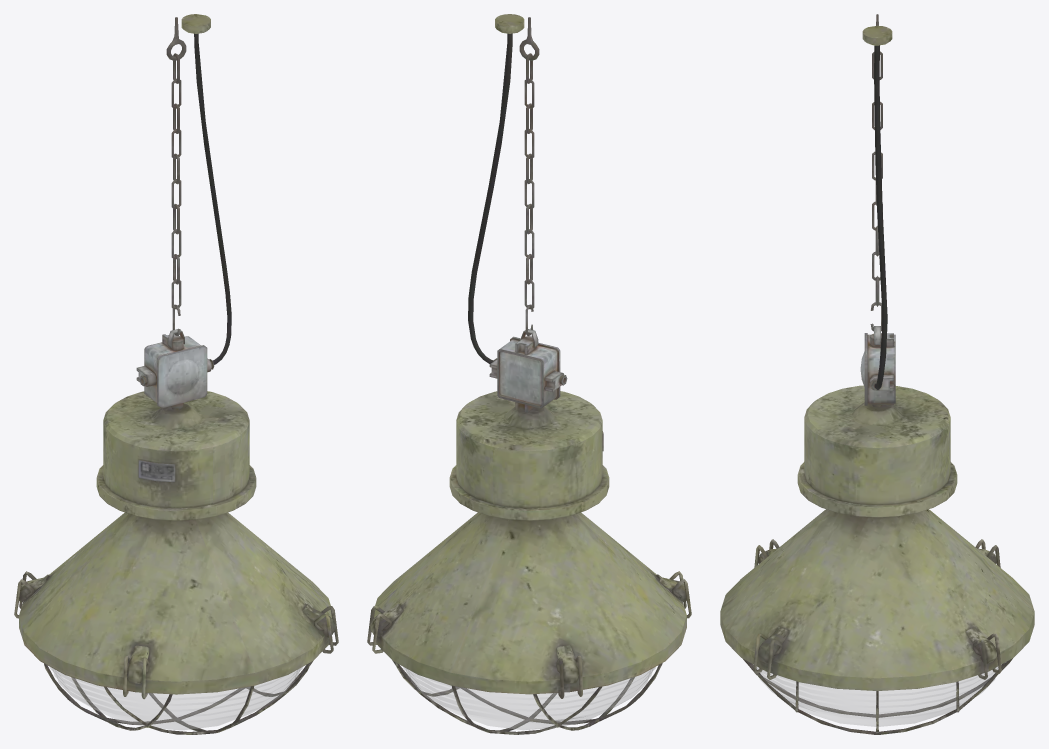
Rendered from hanging_lamp.glb.
3 views of the same model, side by side, from view 1: azimuth 30°, elevation 25°; view 2: azimuth 150°, elevation 25°; view 3: azimuth 270°, elevation 25° (orthographic).
Visible parts, largest first — view 1: hanging_industrial_lamp; view 2: hanging_industrial_lamp; view 3: hanging_industrial_lamp.
Boxes of the visible parts, box(x1,y1,x2,y2) form: hanging_industrial_lamp: box(14, 14, 338, 734); hanging_industrial_lamp: box(367, 14, 691, 734); hanging_industrial_lamp: box(720, 14, 1034, 734).
Size of the model in its own units: 0.5497 by 1.36 by 0.5497.
Materials: 2 (1 with a texture image).
